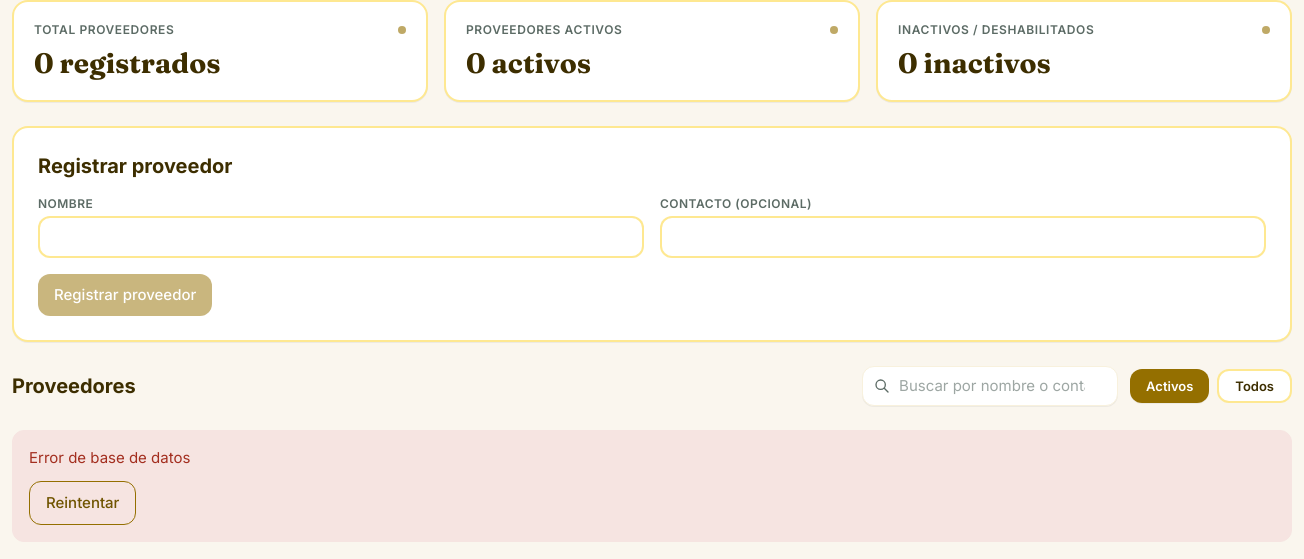
it: Proveedores › muestra el mensaje real del backend si falla la carga, con reintento
The width and height of the screenshot is (1304, 559).
Expected: the text "Error de base de datos" is shown, 29,448 -> 190,467
Click the button "Reintentar": point(83, 503) 29,481 -> 136,525
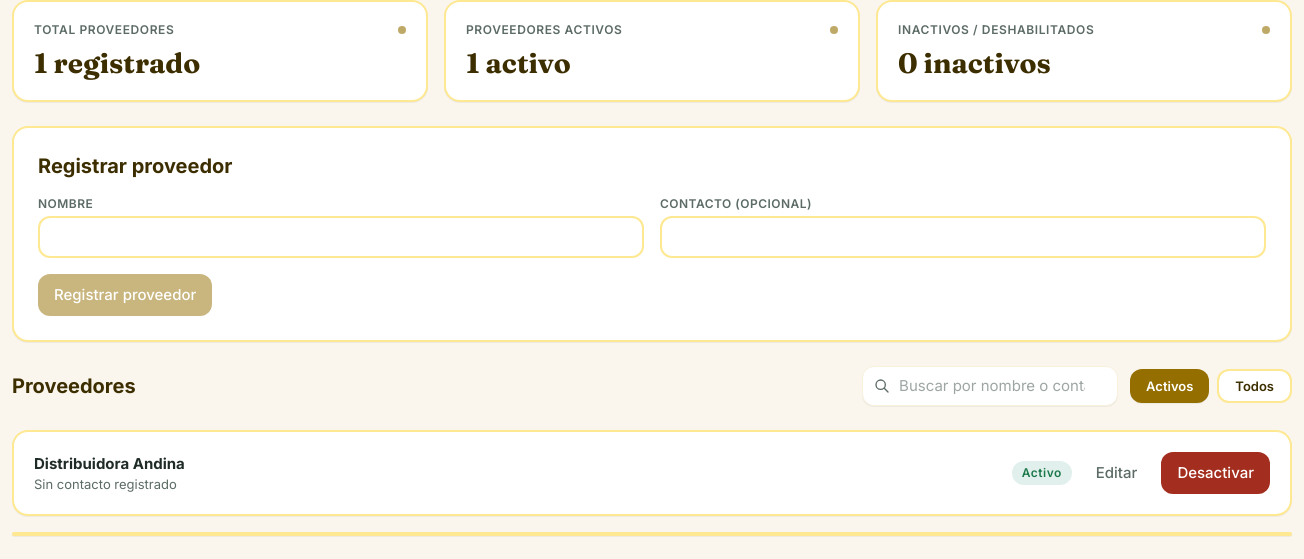
Now the text "Distribuidora Andina" is shown, box 34,453 -> 185,475
